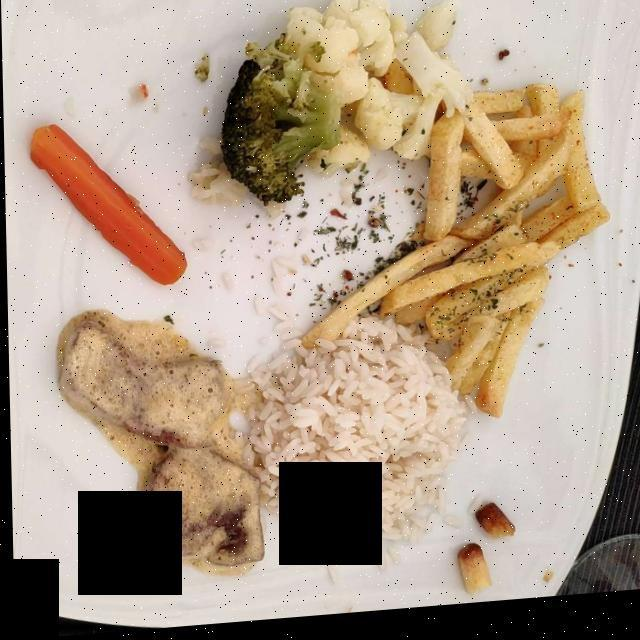beef: (58, 325, 263, 575)
carrot: (17, 119, 183, 293)
cauliflower: (276, 8, 454, 181)
chips-french-fries: (295, 83, 599, 438)
rice: (255, 317, 462, 570)
sauce: (56, 316, 241, 549)
